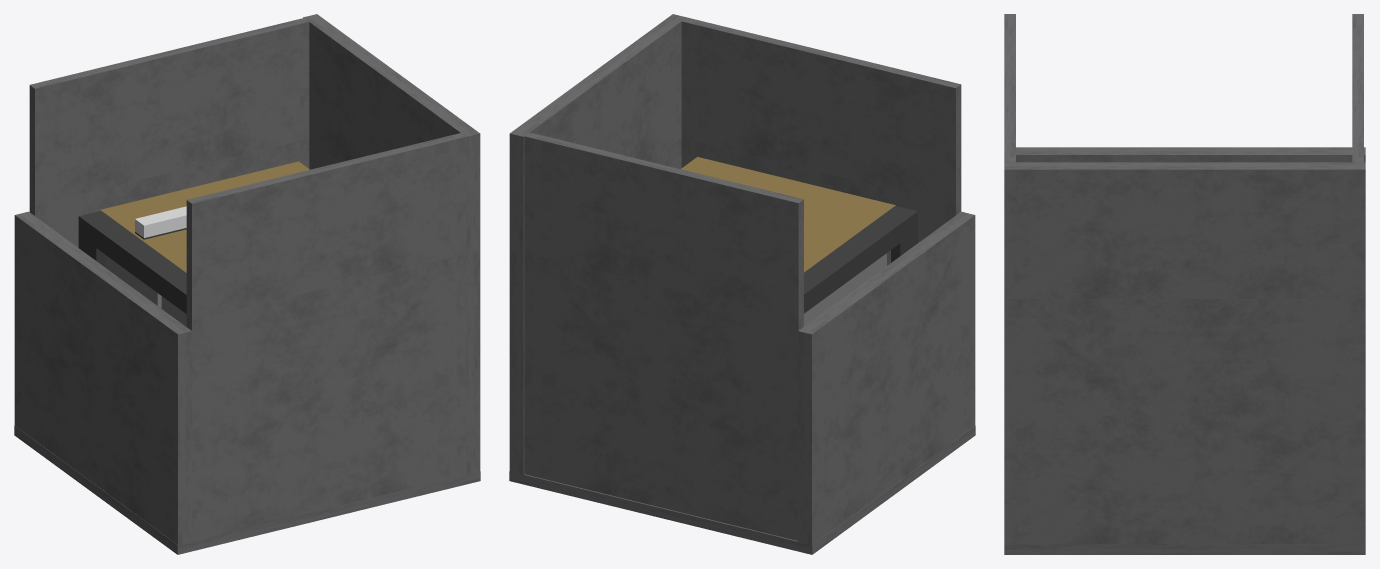
Rendered from Frame 19. Top-of-car access region with inspection station and temporary service light.fbx.
3 renders of one model, left to right at view 1: azimuth 30°, elevation 25°; view 2: azimuth 150°, elevation 25°; view 3: azimuth 270°, elevation 25°, orthographic. The views are drawn at different scales.
Parts seen in each view (by area): view 1: Cube.217, Cube.191, Cube.190, Cube.189, Cube.188, Cube.179, Cube.180, Cube.218, Cube.187; view 2: Cube.191, Cube.190, Cube.217, Cube.189, Cube.180, Cube.188, Cube.179, Cube.187; view 3: Cube.189, Cube.190, Cube.188, Cube.191, Cube.217.
Boxes of the visible parts, <box> form: Cube.217: <box>186,133,466,541</box>; Cube.191: <box>29,18,309,247</box>; Cube.190: <box>14,211,191,546</box>; Cube.189: <box>303,14,480,474</box>; Cube.188: <box>14,425,480,554</box>; Cube.179: <box>78,210,186,313</box>; Cube.180: <box>100,161,309,272</box>; Cube.218: <box>135,206,186,239</box>; Cube.187: <box>106,255,186,326</box>; Cube.191: <box>524,132,803,540</box>; Cube.190: <box>798,211,975,544</box>; Cube.217: <box>681,17,961,242</box>; Cube.189: <box>509,14,686,474</box>; Cube.180: <box>681,157,895,272</box>; Cube.188: <box>509,425,975,554</box>; Cube.179: <box>804,206,917,313</box>; Cube.187: <box>804,250,890,326</box>; Cube.189: <box>1004,162,1365,543</box>; Cube.190: <box>1016,147,1365,162</box>; Cube.188: <box>1004,544,1365,554</box>; Cube.191: <box>1352,14,1363,162</box>; Cube.217: <box>1004,14,1015,162</box>.
Bounding box in the file's own units: 6467 × 7096 × 6039.
